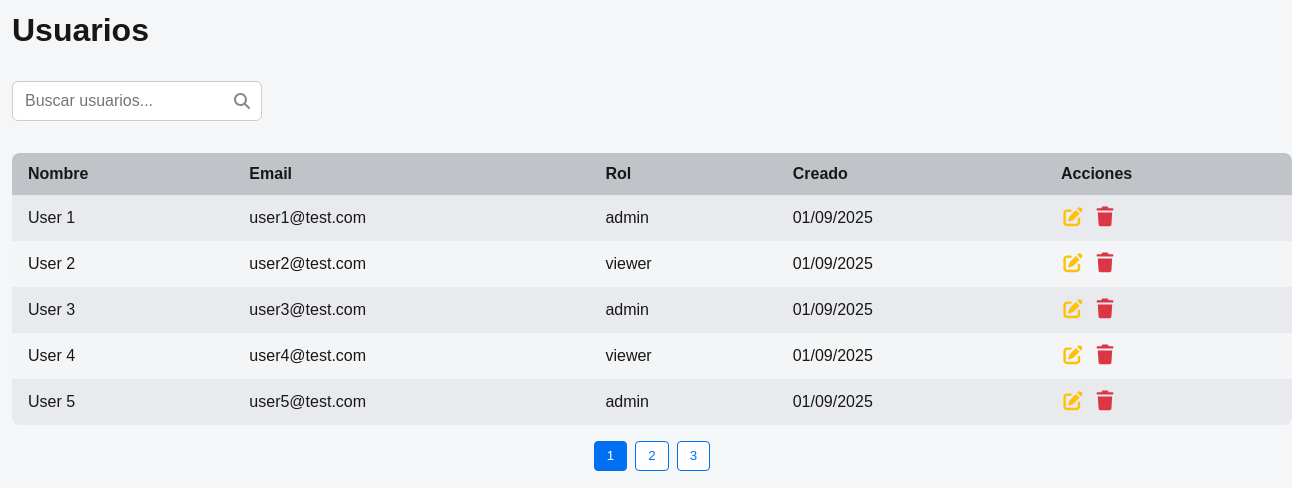
Test case: UsersPage › searches users
The width and height of the screenshot is (1292, 488).
Expected: the text "User 1" is shown, x1=12 y1=195 x2=233 y2=241
Type "User 5" into the field with placeholder "Buscar usuarios..." at (137, 101), box x1=12 y1=81 x2=262 y2=121
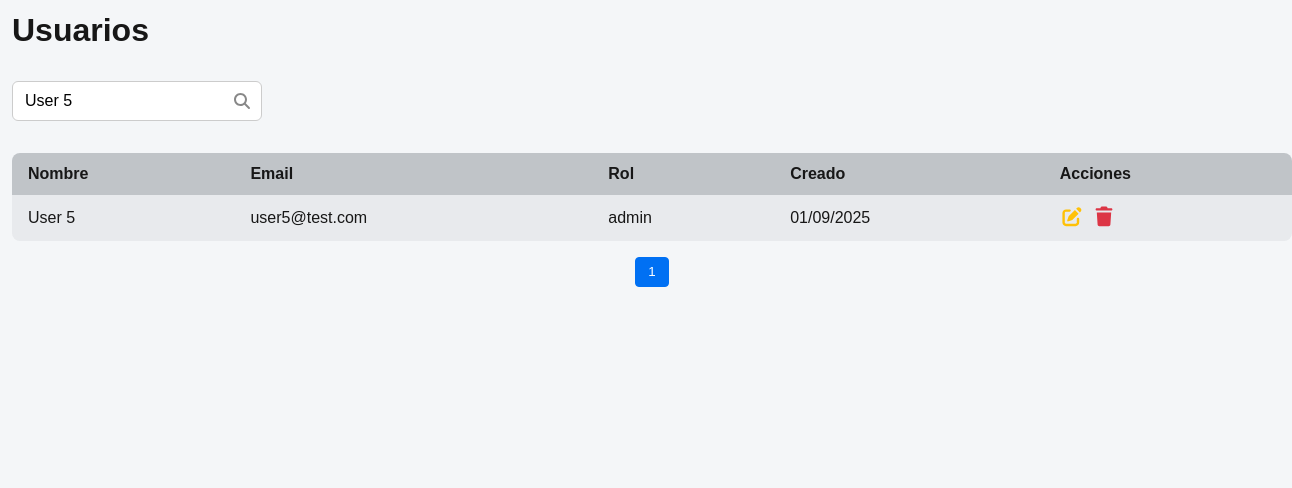
Expected: the text "User 5" is shown, x1=12 y1=195 x2=234 y2=241
Expected: the text "User 1" is gone
